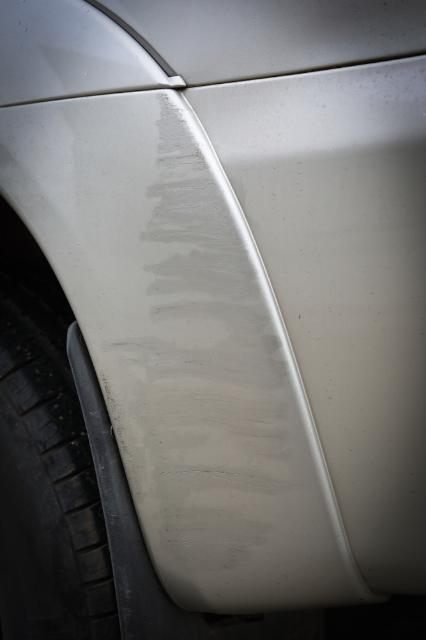scratch: (94, 90, 291, 571)
